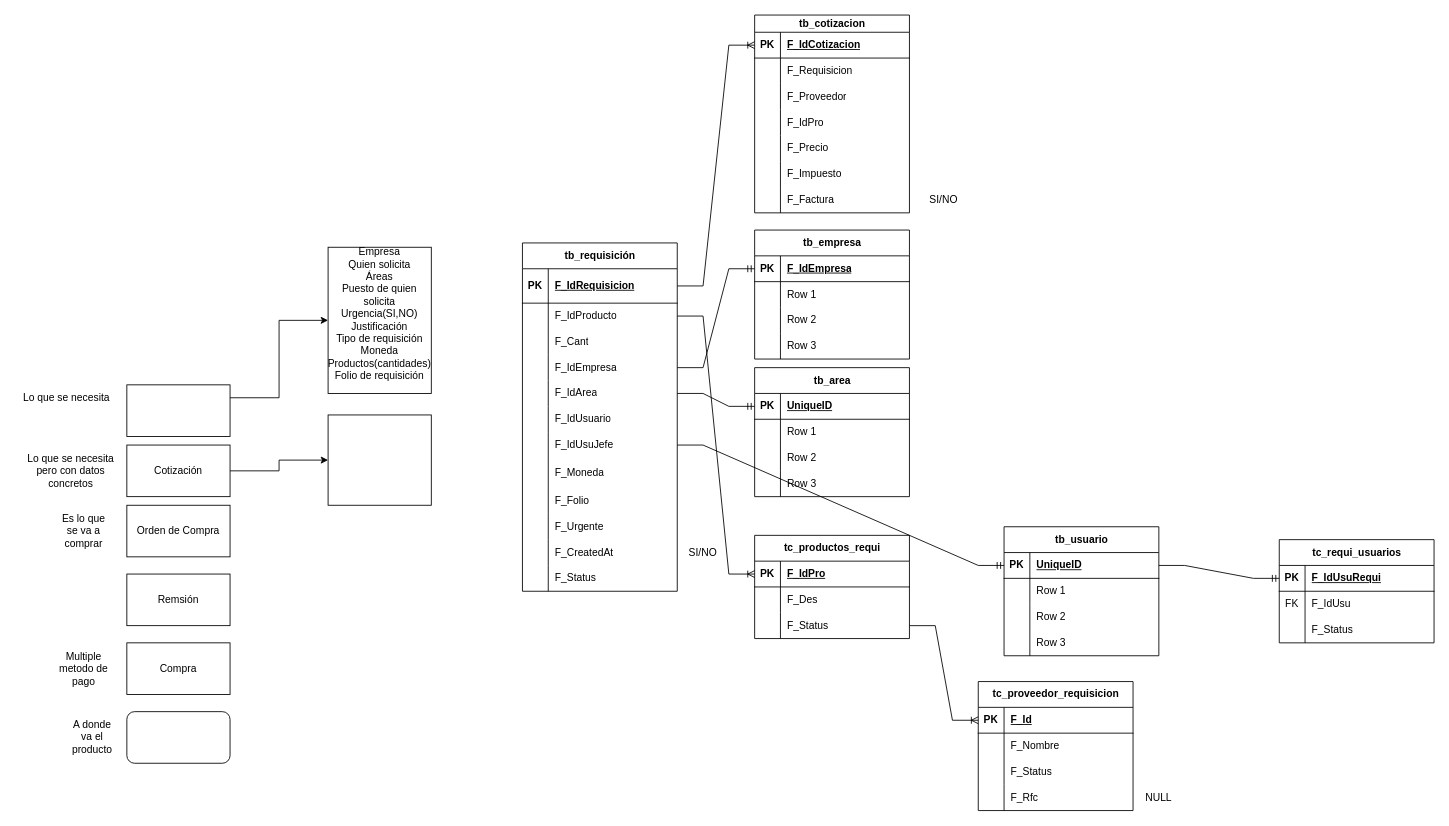
Image size: 1449x826. Some labels were removed from this diagram. Each missing label, with the centre of its shape:
Evidence: (x=178, y=737)
proveedor importe iva total habra factura: (x=379, y=459)
Requisición: (x=178, y=410)
